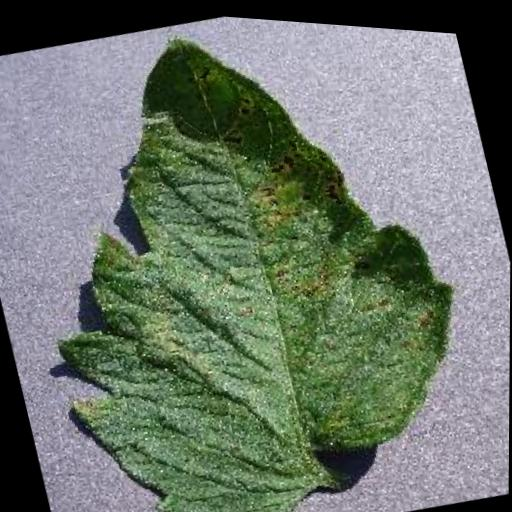Septoria: (0, 0, 507, 512)
